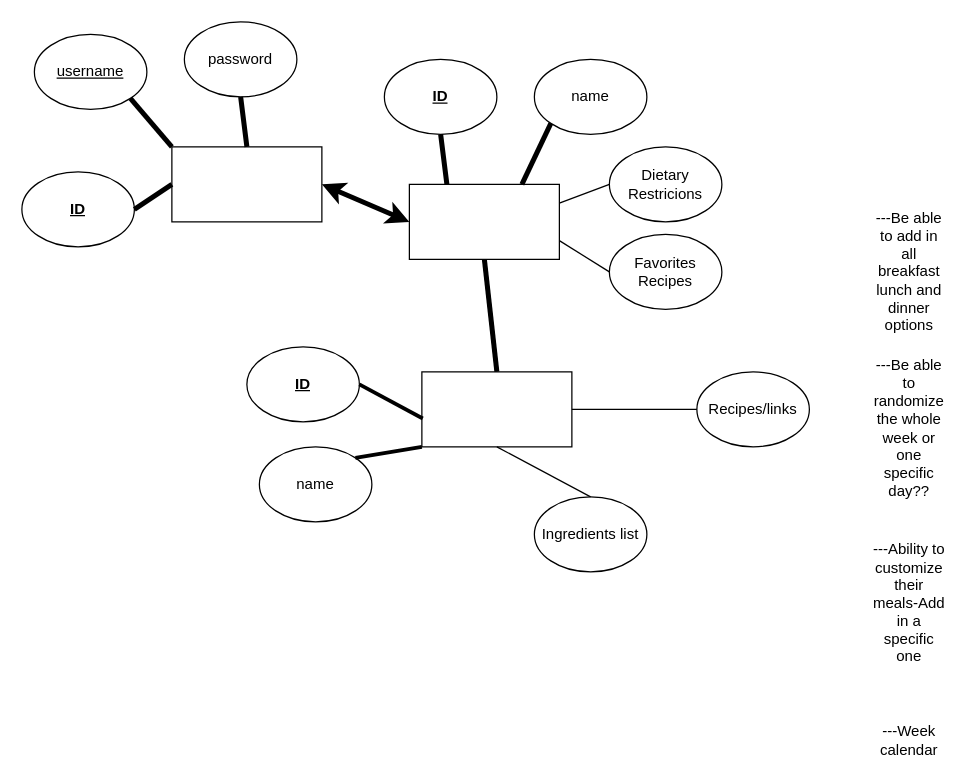
Image size: 969x781. Some labels were removed from this diagram. Each missing label, with the centre of its shape:
Account: pixel 246 184
Meals: pixel 496 409
User: pixel 483 221
